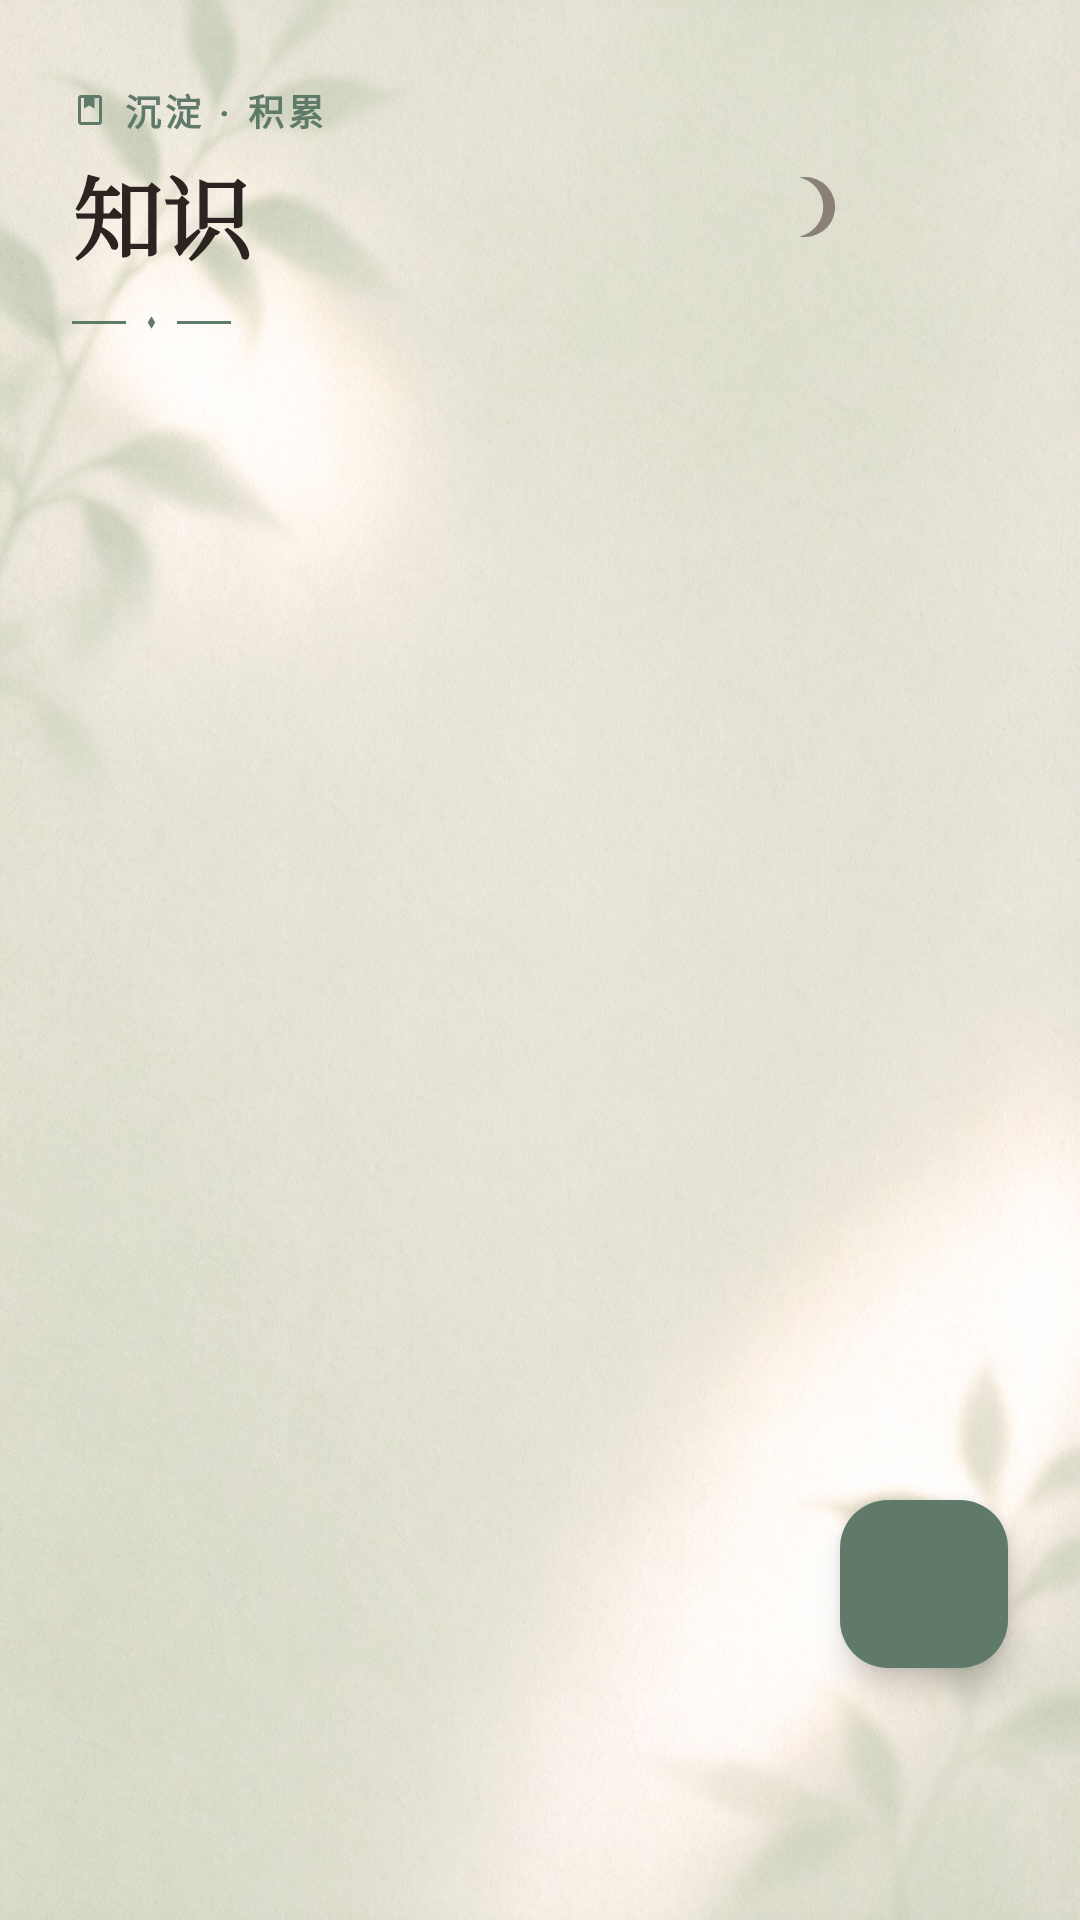

Named icons in this screenshot (1080×1920) and their bounding boxes, (x1=x1, y1=y1, x2=x2, y2=y2):
knowledge: (x1=78, y1=92, x2=108, y2=128)
切换主题: (x1=800, y1=177, x2=835, y2=237)
